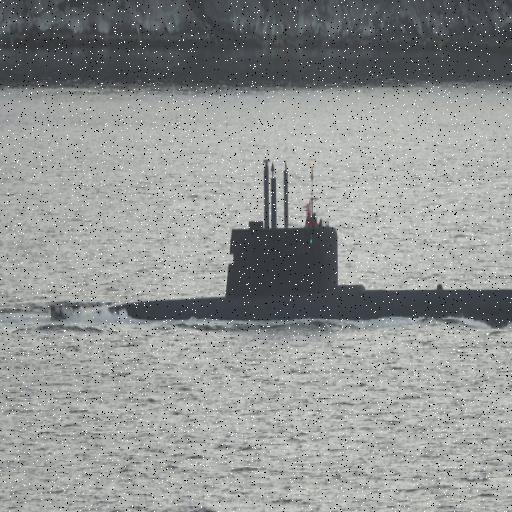submarine: (51, 160, 512, 325)
